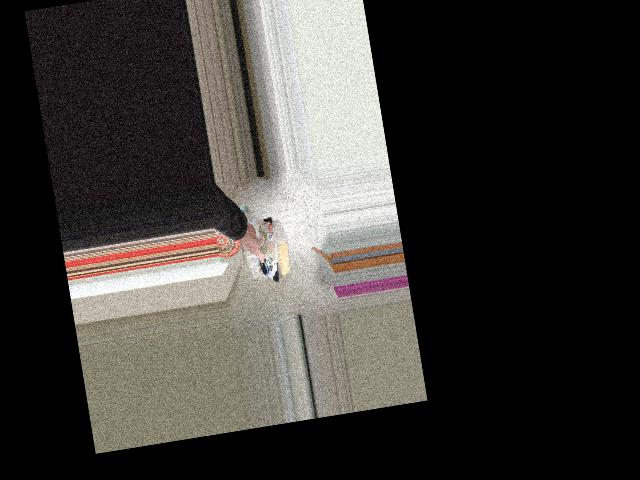cheese: (235, 204, 310, 289)
